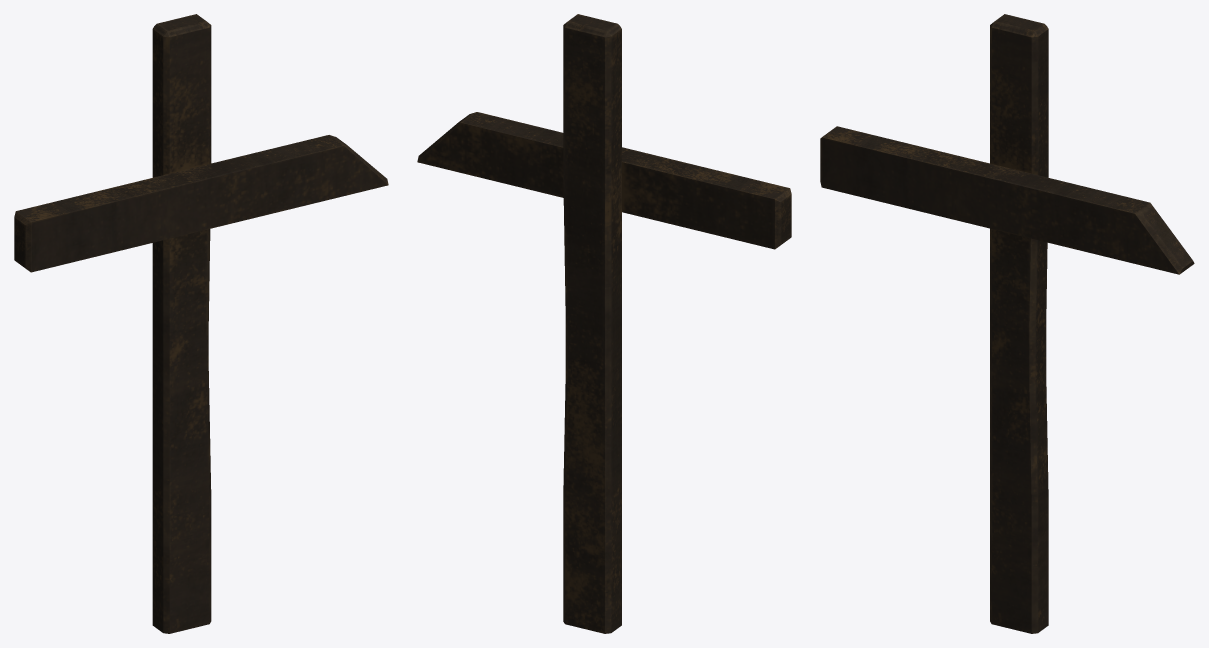
Rendered from cross_02.fbx.
The picture shows the model from 3 angles, left to right: view 1: azimuth 30°, elevation 25°; view 2: azimuth 150°, elevation 25°; view 3: azimuth 330°, elevation 25°; orthographic projection.
Visible parts, largest first — view 1: cross_02; view 2: cross_02; view 3: cross_02.
Boxes of the visible parts, x1,y1,x2,y2 form: cross_02: [14, 14, 388, 633]; cross_02: [417, 14, 791, 633]; cross_02: [820, 14, 1194, 633].
Size of the model in its own units: 0.1682 by 0.2667 by 0.0249.
1 material, 1 textured.
